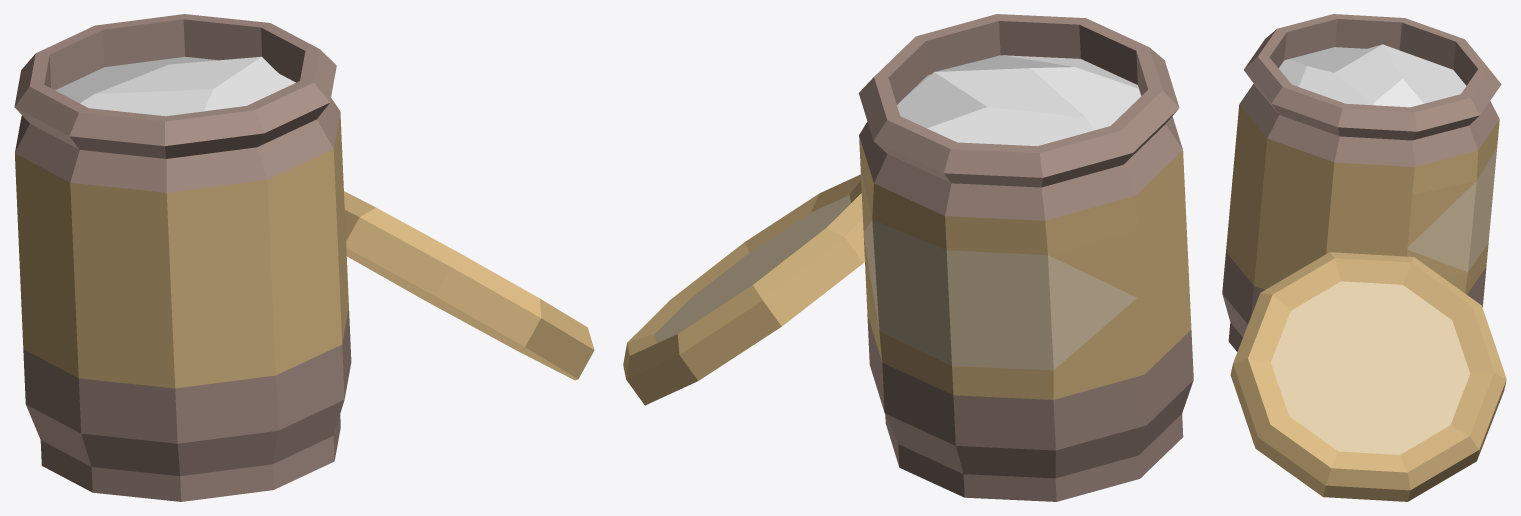
The model's file is jam.fbx.
The picture shows the model from 3 angles, left to right: view 1: azimuth 30°, elevation 25°; view 2: azimuth 150°, elevation 25°; view 3: azimuth 270°, elevation 25°; orthographic projection. The views are drawn at different scales.
Parts seen in each view (by area): view 1: polySurface2, polySurface3; view 2: polySurface2, polySurface3; view 3: polySurface2, polySurface3.
Part boxes in pixels (x1,y1,x2,y2): polySurface2: (14, 14, 351, 501); polySurface3: (344, 191, 594, 380); polySurface2: (858, 14, 1193, 501); polySurface3: (623, 174, 865, 405); polySurface2: (1222, 14, 1501, 351); polySurface3: (1230, 252, 1506, 501).
Bounding box in the file's own units: 5.87 × 4.25 × 3.54.
